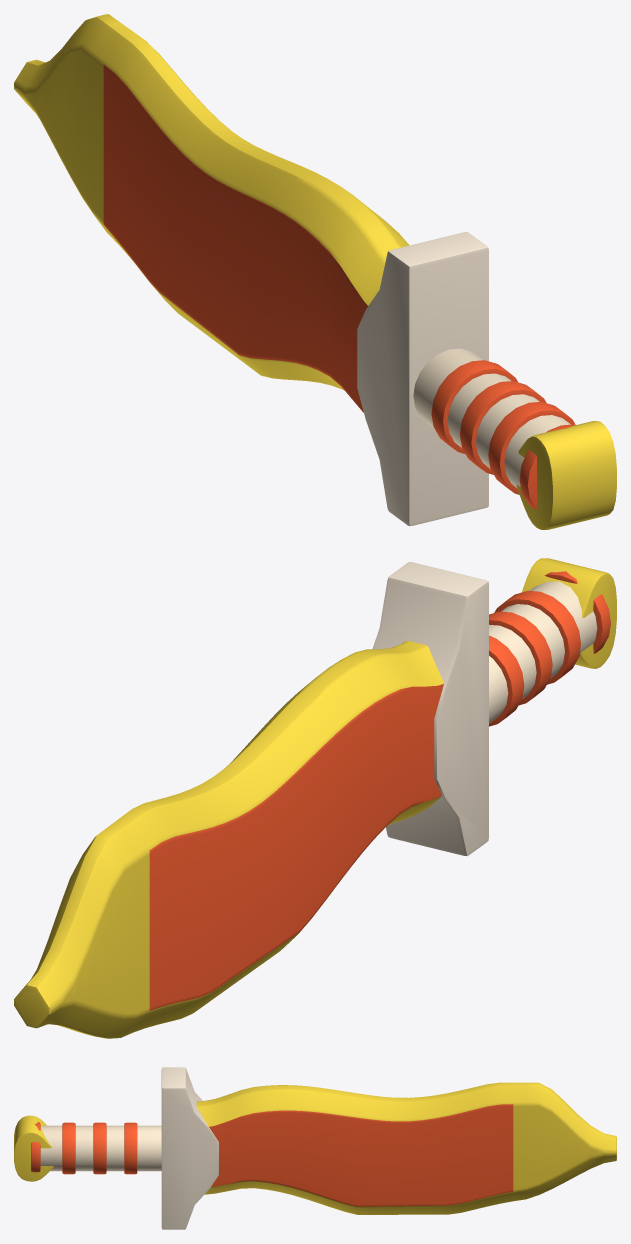
Rendered from Boss_InfernalColossus.glb.
The picture shows the model from 3 angles, top to bottom: view 1: azimuth 30°, elevation 25°; view 2: azimuth 150°, elevation 25°; view 3: azimuth 270°, elevation 25°; orthographic projection. The views are drawn at different scales.
Visible parts, largest first — view 1: Boss_InfernalColossus; view 2: Boss_InfernalColossus; view 3: Boss_InfernalColossus.
Boxes of the visible parts, x1,y1,x2,y2 form: Boss_InfernalColossus: (14,14,616,529); Boss_InfernalColossus: (14,558,616,1038); Boss_InfernalColossus: (14,1067,616,1229).
Bounding box in the file's own units: 0.088 × 0.26 × 1.
Materials: 1 (1 with a texture image).
